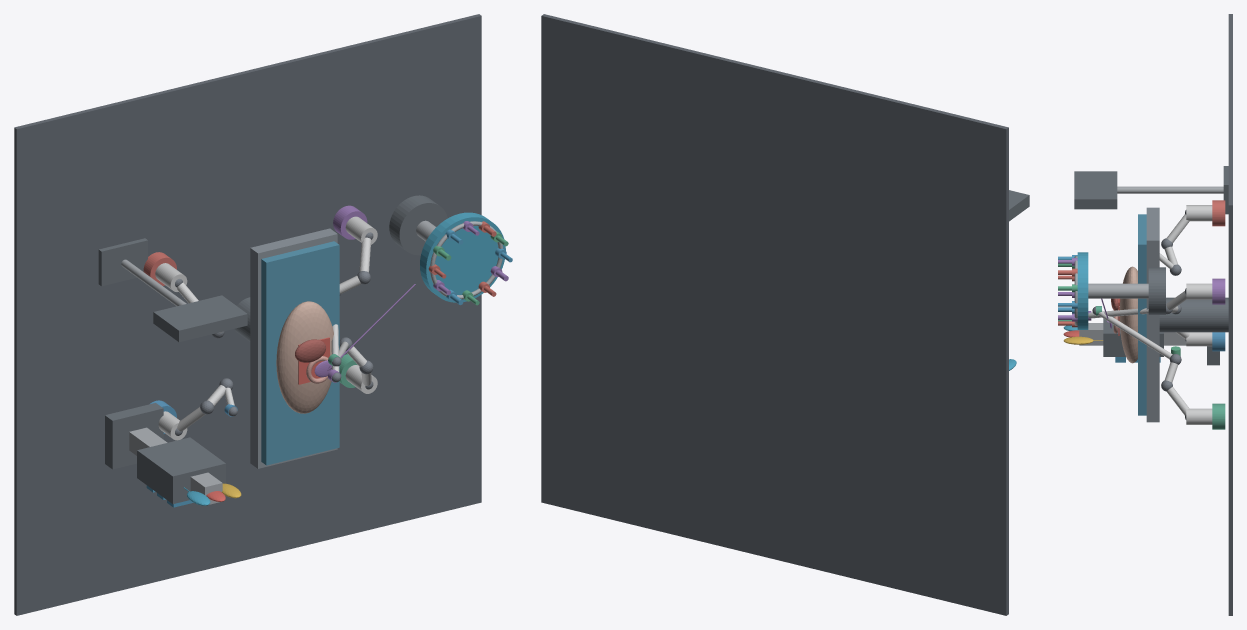
Rendered from dranmar_autonomous_rescue_or_ischemia_rescue.glb.
3 renders of one model, left to right at view 1: azimuth 30°, elevation 25°; view 2: azimuth 150°, elevation 25°; view 3: azimuth 270°, elevation 25°, orthographic. The views are drawn at different scales.
Parts seen in each view (by area): view 1: floor, mattress, carousel_rotor, table_base, patient_torso, pump_rack, monitor_body, resus_base, carousel_base, monitor_base, resus_column; view 2: floor; view 3: floor, table_base, table_column, monitor_body, mattress, patient_torso, carousel_column, carousel_rotor, carousel_base, monitor_pole, pump_rack, resus_column (+12 smaller).
Part boxes in pixels (bbox=[...]): floor: bbox=[14, 14, 481, 615]; mattress: bbox=[261, 241, 339, 465]; carousel_rotor: bbox=[420, 212, 505, 302]; table_base: bbox=[250, 228, 337, 468]; patient_torso: bbox=[276, 301, 333, 413]; pump_rack: bbox=[137, 437, 225, 503]; monitor_body: bbox=[153, 295, 247, 342]; resus_base: bbox=[105, 403, 163, 469]; carousel_base: bbox=[389, 195, 447, 255]; monitor_base: bbox=[98, 238, 147, 286]; resus_column: bbox=[129, 427, 222, 504]; floor: bbox=[541, 14, 1008, 615]; floor: bbox=[1228, 14, 1232, 615]; table_base: bbox=[1146, 207, 1159, 422]; table_column: bbox=[1159, 297, 1228, 332]; monitor_body: bbox=[1074, 171, 1117, 209]; mattress: bbox=[1138, 214, 1146, 415]; patient_torso: bbox=[1119, 266, 1137, 363]; carousel_column: bbox=[1088, 283, 1148, 298]; carousel_rotor: bbox=[1077, 252, 1088, 329]; carousel_base: bbox=[1148, 267, 1165, 314]; monitor_pole: bbox=[1117, 186, 1223, 193]; pump_rack: bbox=[1103, 316, 1163, 356]; resus_column: bbox=[1079, 323, 1186, 345].
Bounding box in the file's own units: 4.2 × 4.2 × 1.62.
